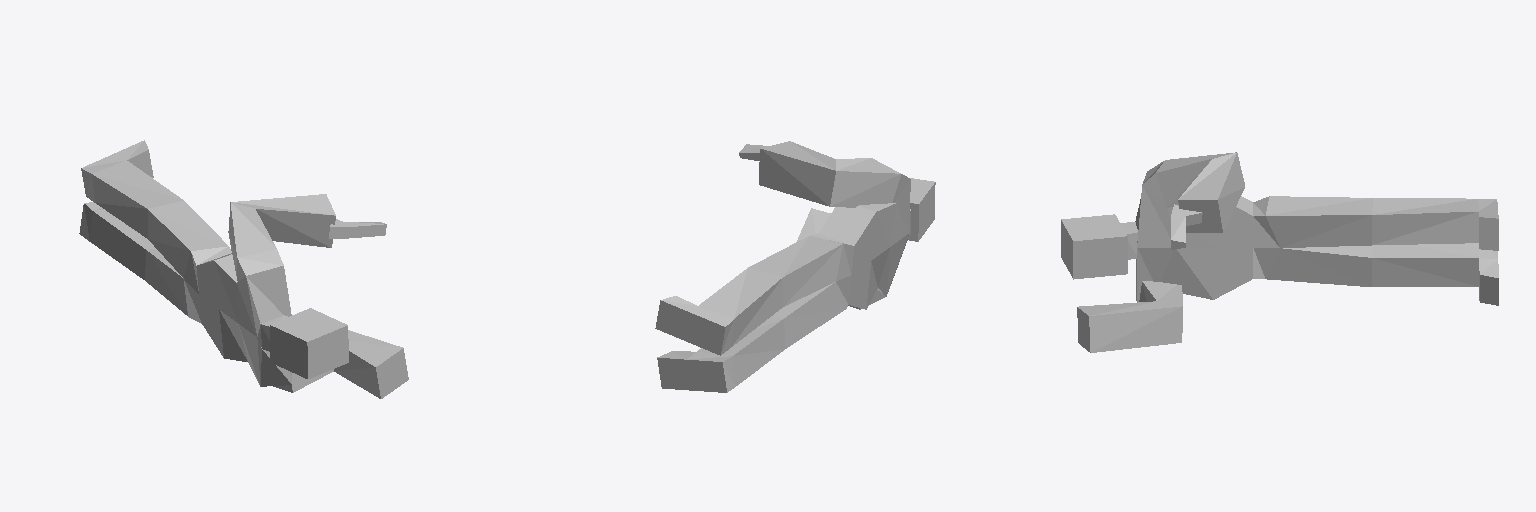
The model's file is cultist-threaten.obj.
3 views of the same model, side by side, from view 1: azimuth 30°, elevation 25°; view 2: azimuth 150°, elevation 25°; view 3: azimuth 270°, elevation 25° (orthographic).
Parts seen in each view (by area): view 1: RLeg.001, Cube; view 2: RLeg.001; view 3: RLeg.001, Cube.
Part boxes in pixels (x1,y1,x2,y2): RLeg.001: (79, 140, 408, 398); Cube: (329, 219, 386, 238); RLeg.001: (655, 141, 935, 392); RLeg.001: (1061, 152, 1498, 352); Cube: (1171, 204, 1202, 249).
Size of the model in its own units: 0.6341 by 0.6415 by 1.57.